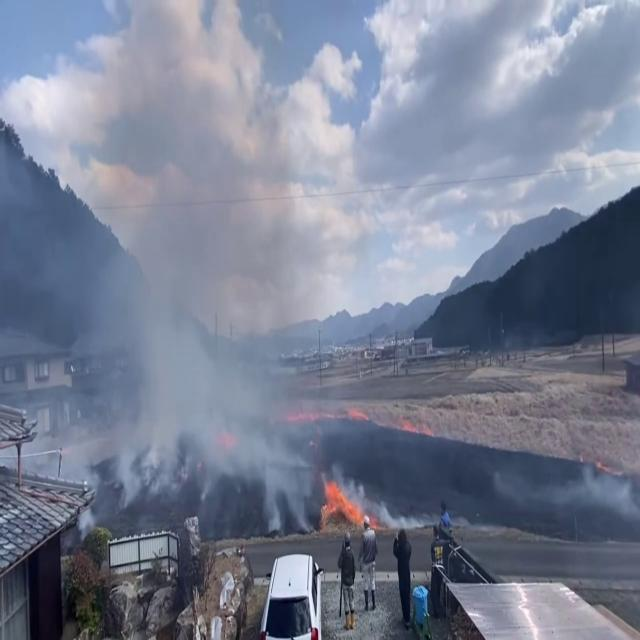Fire: (316, 469, 382, 531)
Smoke: (56, 90, 340, 524)
